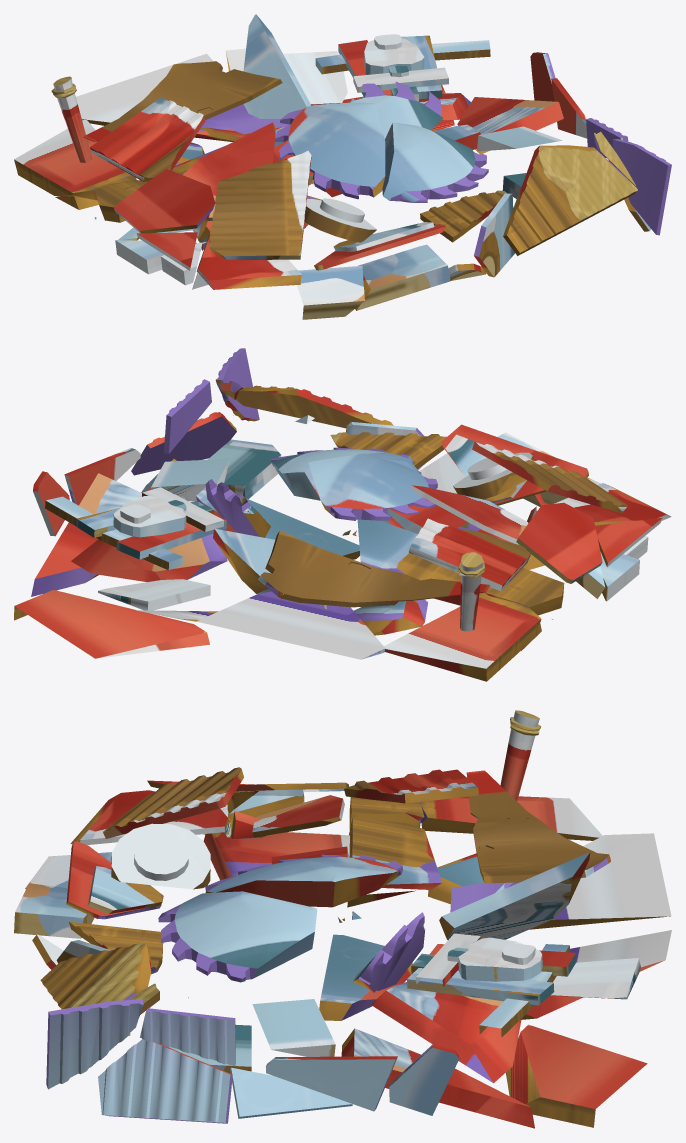
Rendered from Cty_Bld_WoodFactory_Break_Mod.FBX.
3 renders of one model, top to bottom at view 1: azimuth 30°, elevation 25°; view 2: azimuth 150°, elevation 25°; view 3: azimuth 270°, elevation 25°, orthographic. The views are drawn at different scales.
Parts seen in each view (by area): view 1: Cty_Bld_WoodFactory_Break_Mod; view 2: Cty_Bld_WoodFactory_Break_Mod; view 3: Cty_Bld_WoodFactory_Break_Mod.
Boxes of the visible parts, x1=… form: Cty_Bld_WoodFactory_Break_Mod: x1=14, y1=14, x2=671, y2=319; Cty_Bld_WoodFactory_Break_Mod: x1=14, y1=348, x2=671, y2=681; Cty_Bld_WoodFactory_Break_Mod: x1=14, y1=710, x2=671, y2=1128.
Size of the model in its own units: 899 by 861 by 250.
Materials: 1 (1 with a texture image).
